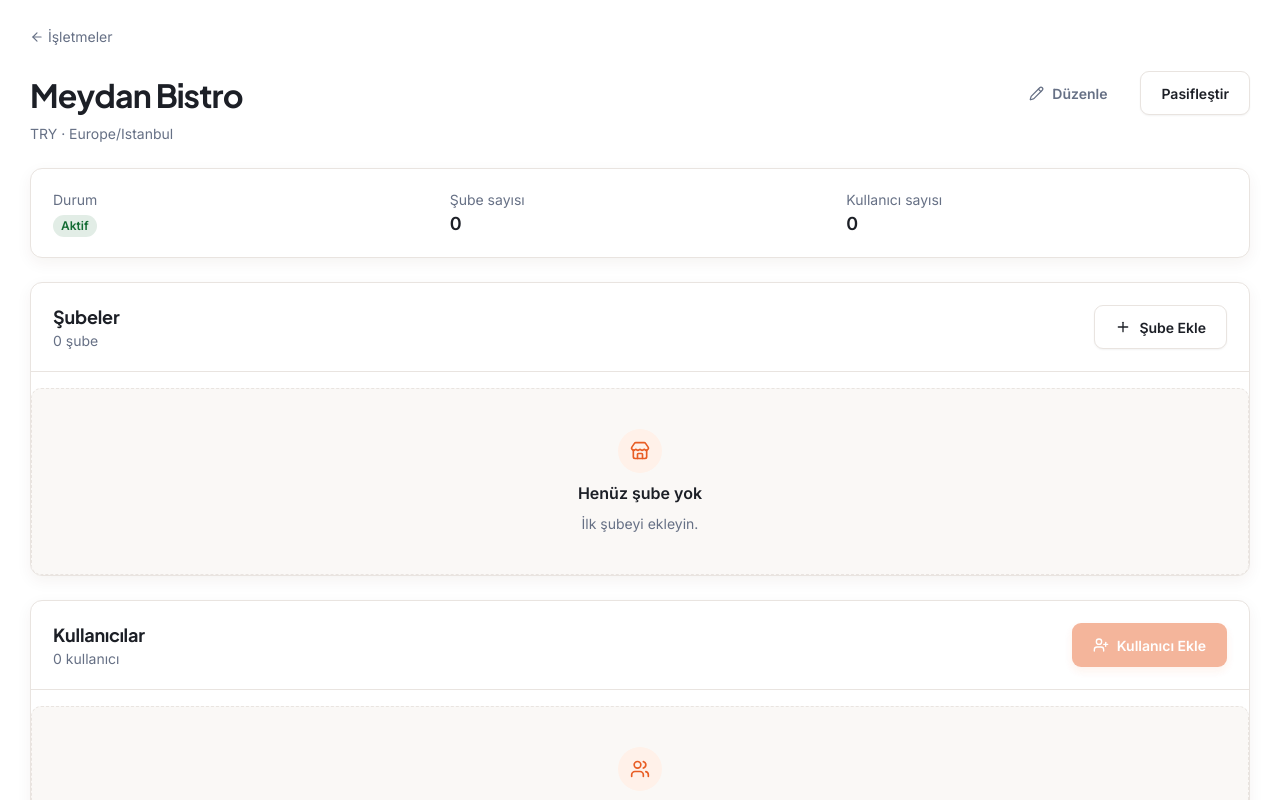
Test case: PlatformAdminBusinessDetailPage - İşletme adını düzenleme › opens the edit dialog pre-filled with the current name and submits the rename
Expected: the heading "Meydan Bistro" is shown, [30,71,243,119]
Click the button "Düzenle".
click(1068, 93)  # box [1008,71,1128,115]
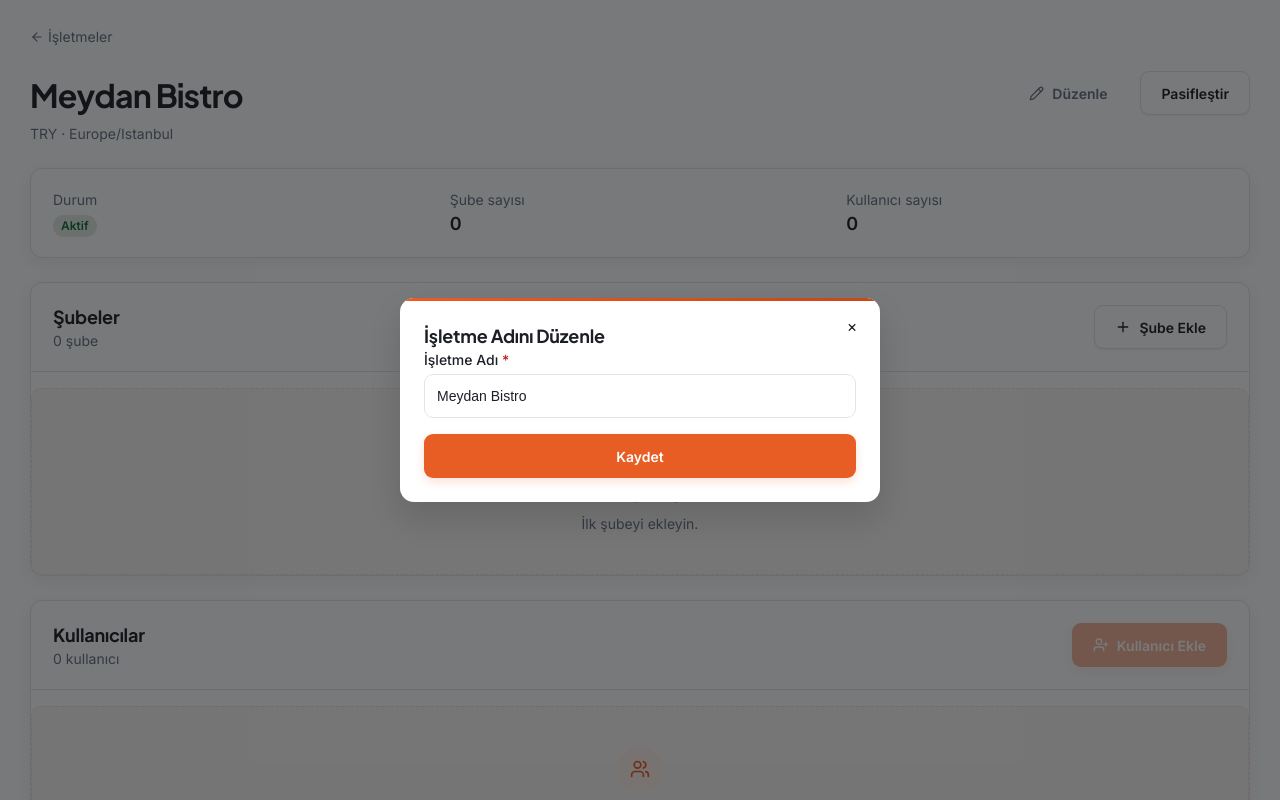
Expected: the heading "İşletme Adını Düzenle" is shown, [424,324,605,347]
Expected: the field holds "Meydan Bistro"
Replace the text in the field with "Yeni İşletme Adı" at (640, 396), box [424,374,856,418]
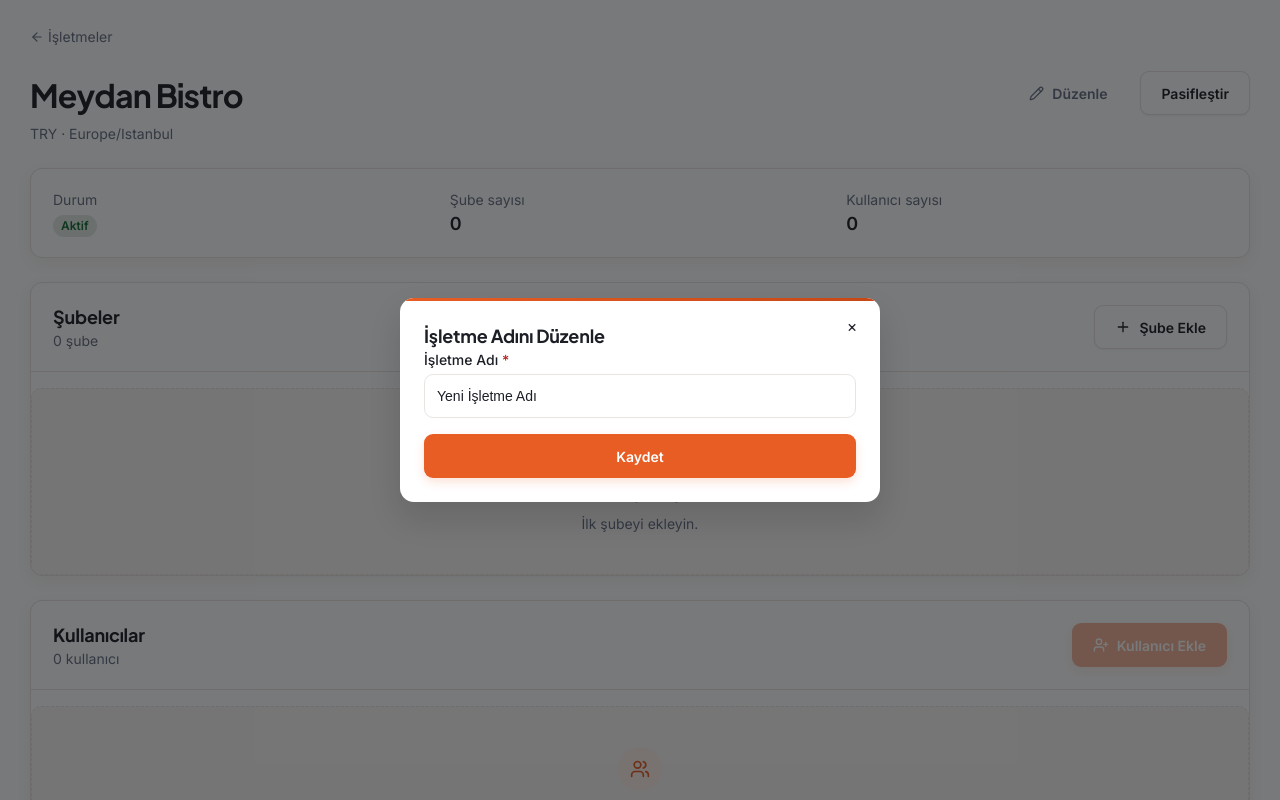
Click the button "Kaydet".
click(640, 456)  # box [424,434,856,478]
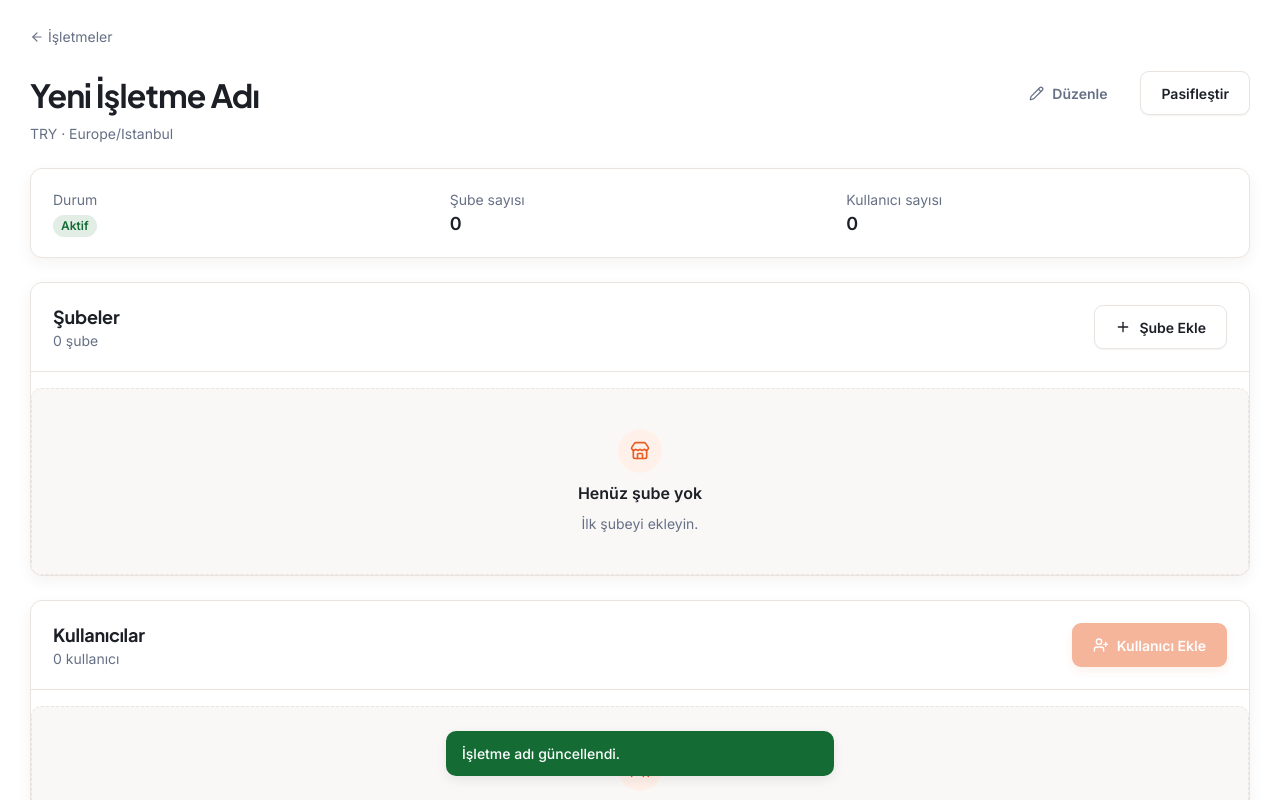
Expected: the heading "Yeni İşletme Adı" is shown, [30,71,259,119]
Expected: the heading "İşletme Adını Düzenle" is gone
